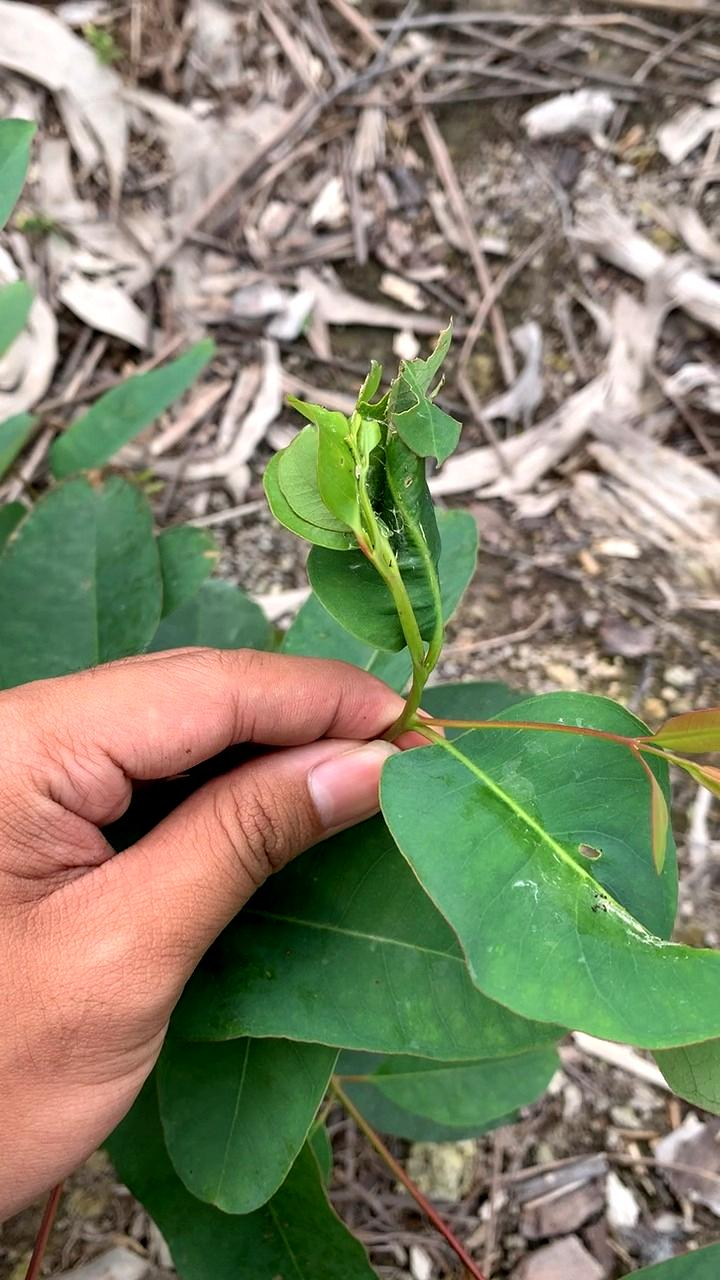Leaf Roller - Leaf: (260, 338, 493, 675)
